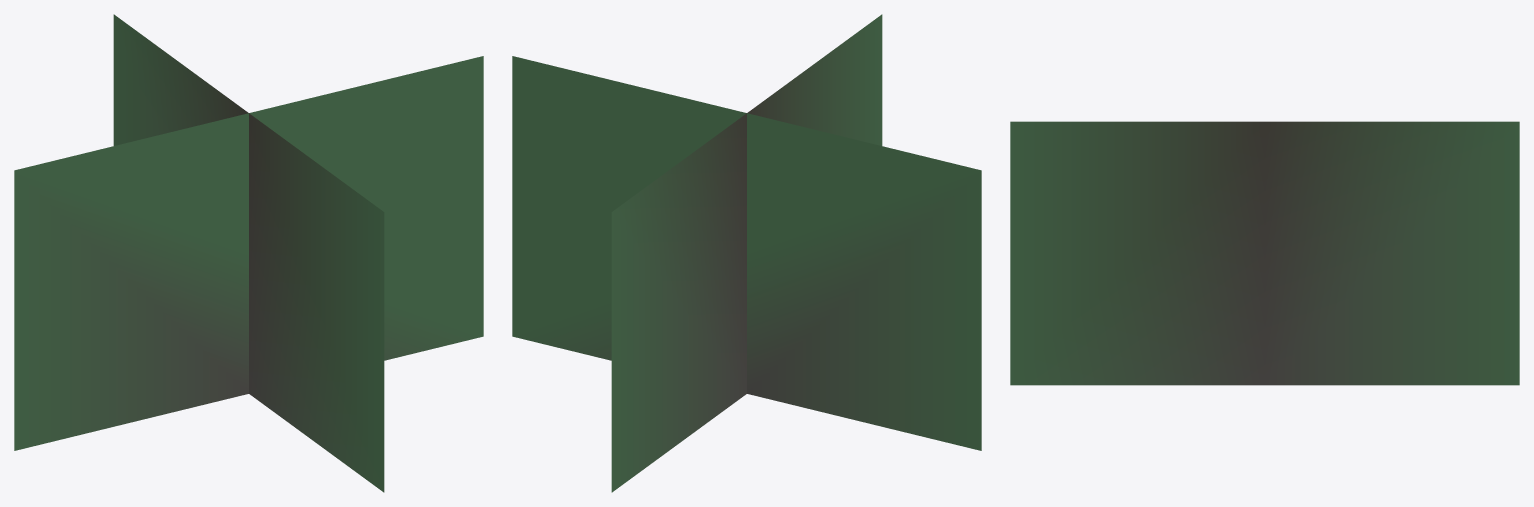
Rendered from tree-pine-small.glb.
3 views of the same model, side by side, from view 1: azimuth 30°, elevation 25°; view 2: azimuth 150°, elevation 25°; view 3: azimuth 270°, elevation 25° (orthographic). The views are drawn at different scales.
Parts seen in each view (by area): view 1: tree-pine-small; view 2: tree-pine-small; view 3: tree-pine-small.
Part boxes in pixels (x1,y1,x2,y2): tree-pine-small: (14,14,483,492); tree-pine-small: (512,14,981,492); tree-pine-small: (1010,121,1519,385).
Size of the model in its own units: 0.7 by 0.4 by 0.7.
